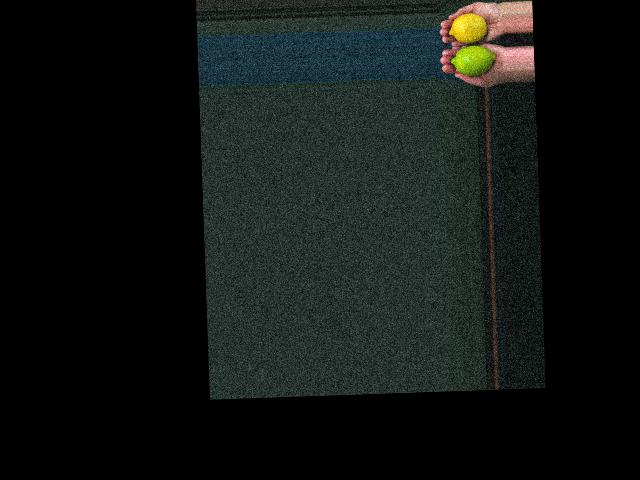lemon: (448, 13, 489, 44)
